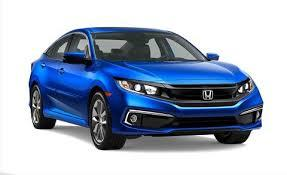car: (27, 24, 268, 152)
